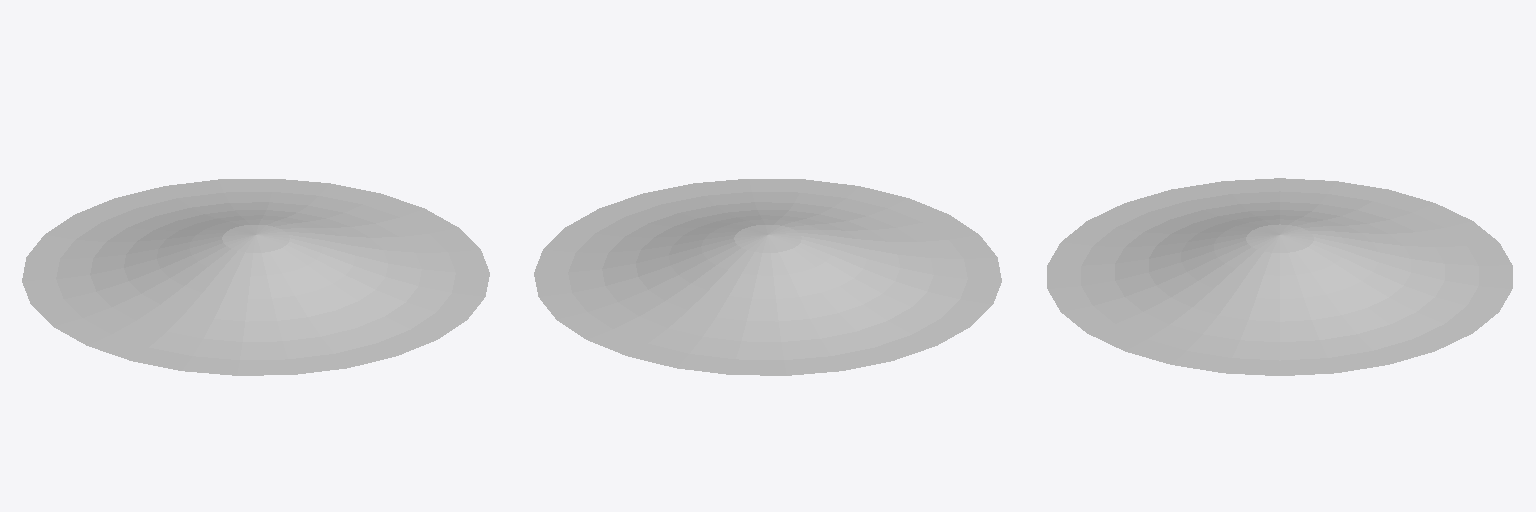
The model's file is Prop_Ground_Bump_Round.obj.
3 renders of one model, left to right at view 1: azimuth 30°, elevation 25°; view 2: azimuth 150°, elevation 25°; view 3: azimuth 270°, elevation 25°, orthographic.
Visible parts, largest first — view 1: object1; view 2: object1; view 3: object1.
Part boxes in pixels (x1,y1,x2,y2): object1: (22, 179, 489, 375); object1: (534, 179, 1001, 375); object1: (1047, 178, 1512, 375).
Size of the model in its own units: 0.5 by 0.05 by 0.4964.